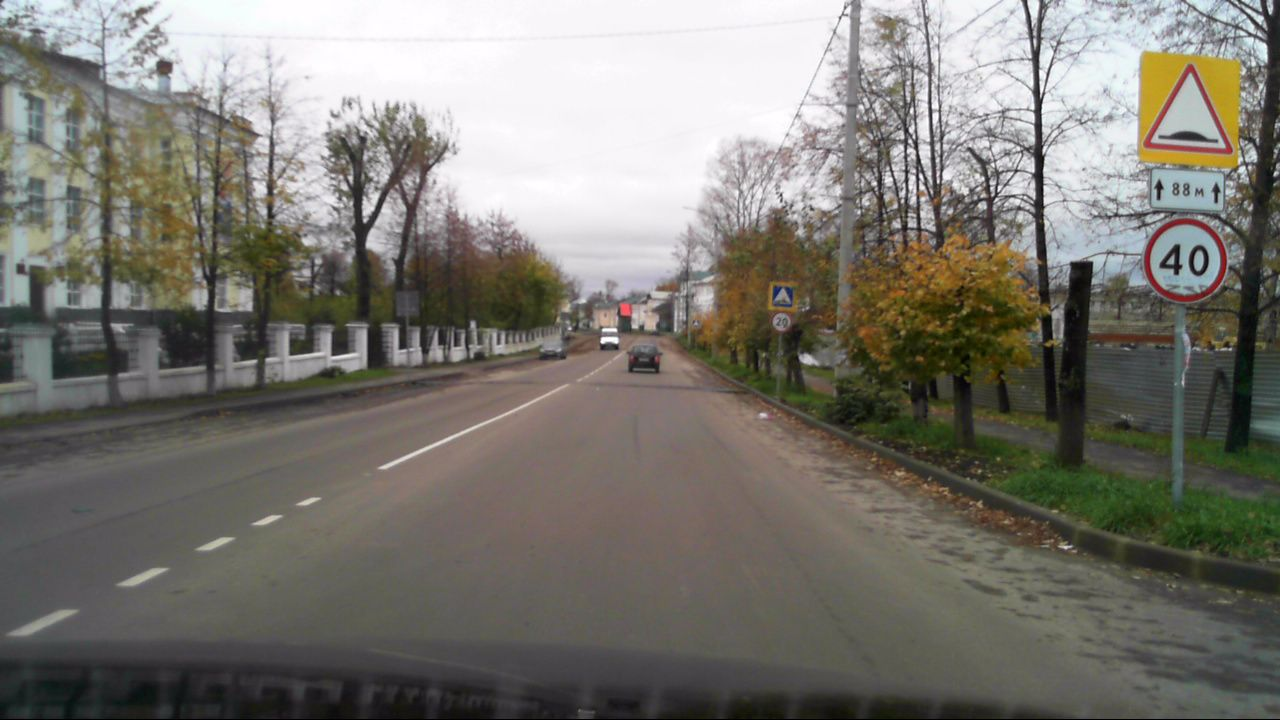speed_warning_40: (1143, 221, 1227, 304)
